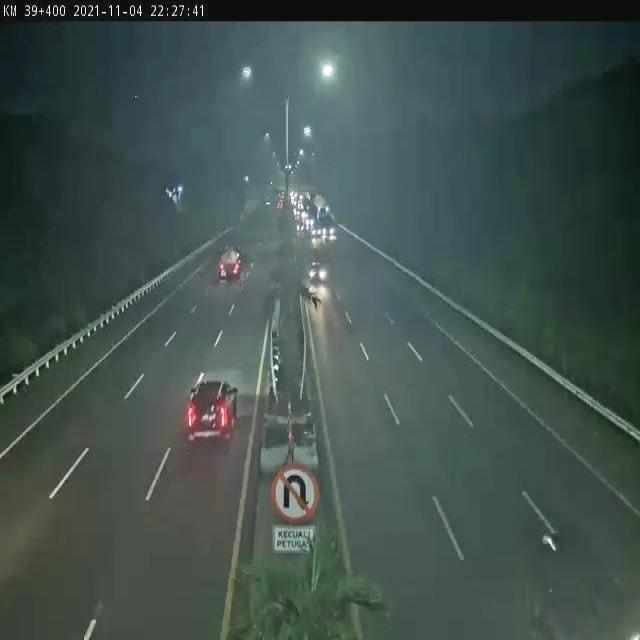Car: (187, 379, 238, 441), (308, 262, 326, 284), (310, 226, 322, 239), (296, 221, 306, 234)
Truck: (217, 244, 242, 280)
